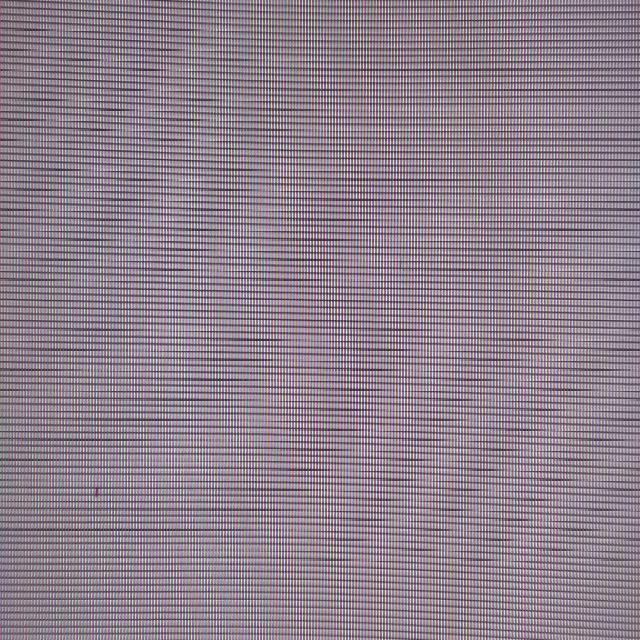Dead pixel: (94, 487, 99, 497)
